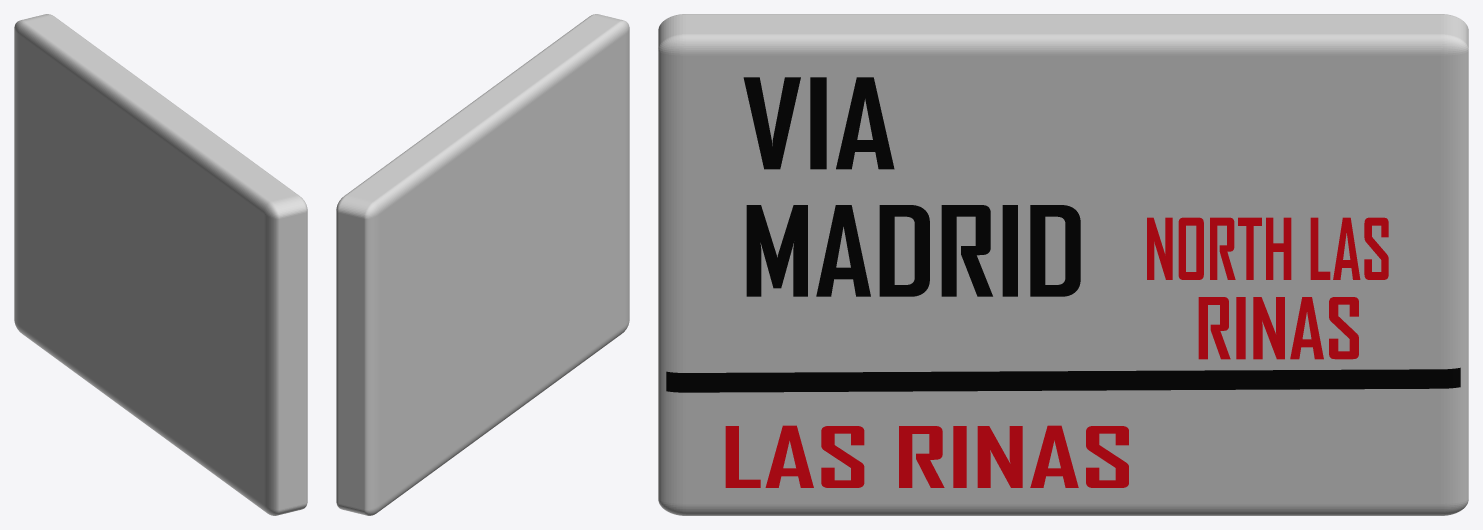
File: uk_styled_street_sign_22.fbx
The picture shows the model from 3 angles, left to right: view 1: azimuth 30°, elevation 25°; view 2: azimuth 150°, elevation 25°; view 3: azimuth 270°, elevation 25°; orthographic projection. The views are drawn at different scales.
Visible parts, largest first — view 1: Cube; view 2: Cube; view 3: Cube, Text.001, Text.002, Text.003, Text, Text.004.
Boxes of the visible parts, x1=… form: Cube: x1=14, y1=14, x2=307, y2=515; Cube: x1=336, y1=14, x2=629, y2=515; Cube: x1=658, y1=14, x2=1468, y2=515; Text.001: x1=746, y1=205, x2=1080, y2=296; Text.002: x1=725, y1=425, x2=1128, y2=487; Text.003: x1=1147, y1=217, x2=1388, y2=279; Text: x1=743, y1=77, x2=894, y2=169; Text.004: x1=1198, y1=297, x2=1358, y2=359.
Bounding box in the file's own units: 1.63 × 11.91 × 18.18.
